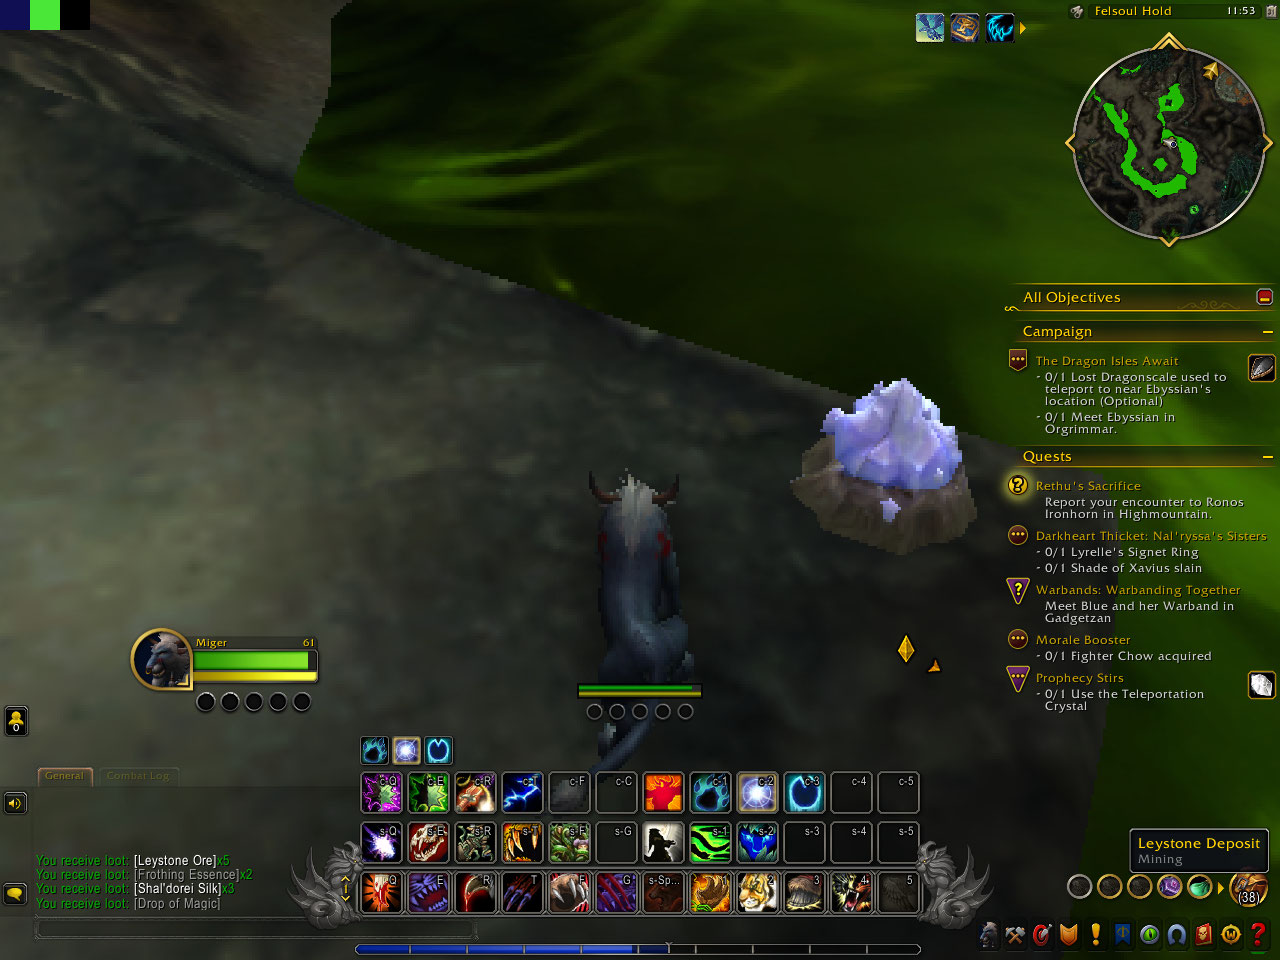ore: (790, 378, 980, 558)
